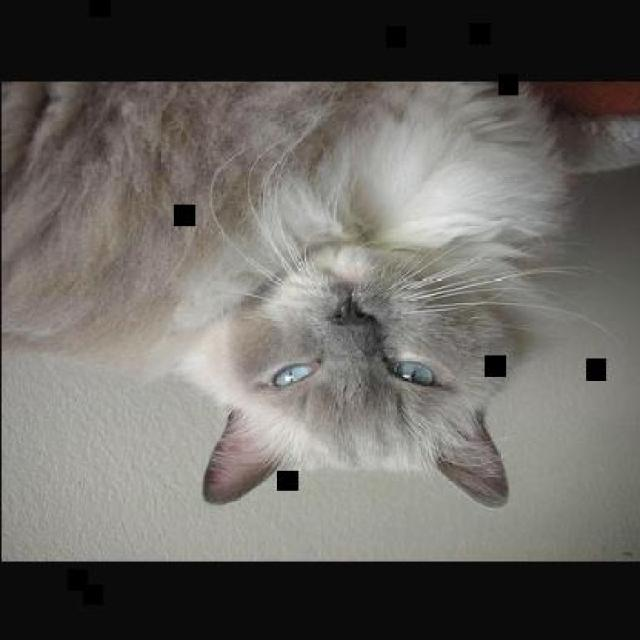unauthorized: (0, 78, 638, 507)
